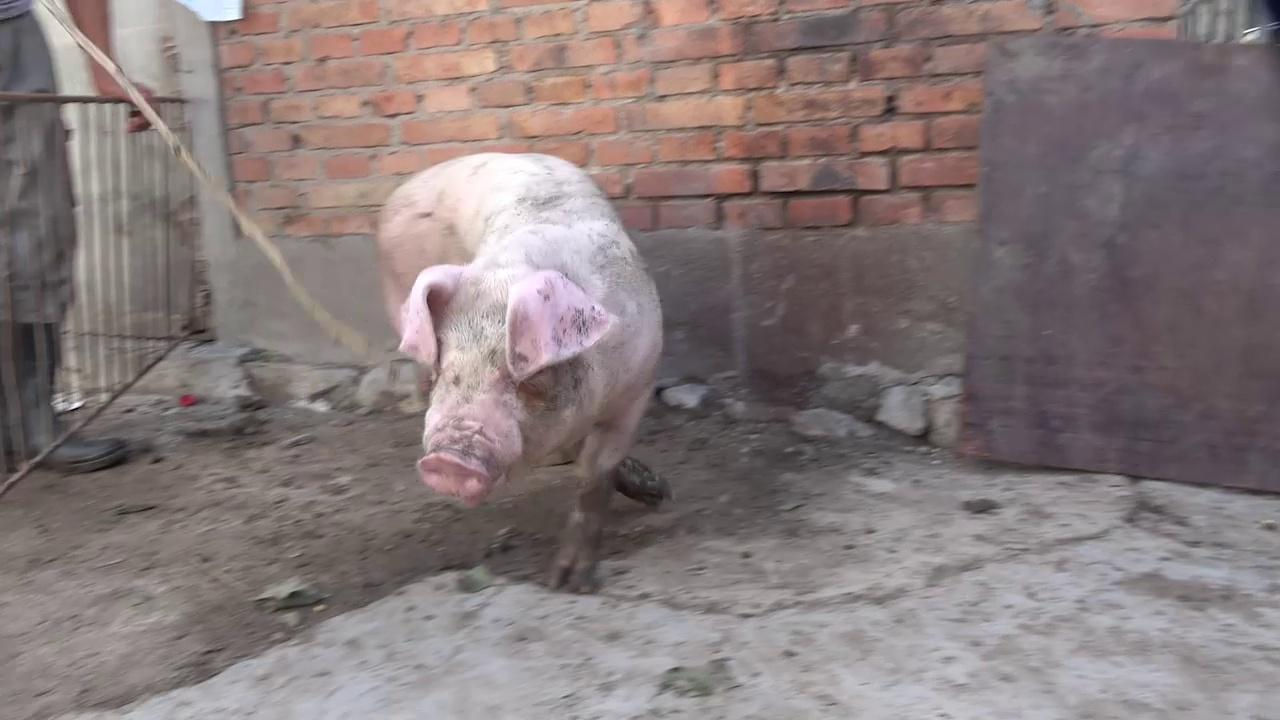Face: (389, 252, 619, 513)
